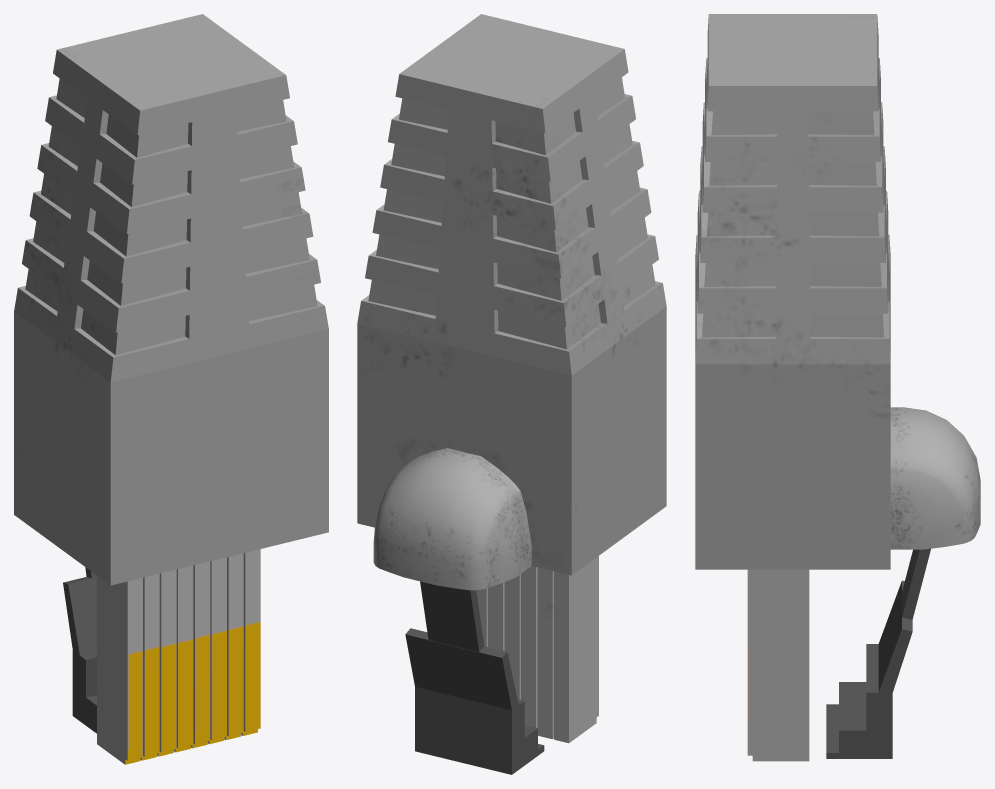
File: Kabel Ethernet.fbx
3 renders of one model, left to right at view 1: azimuth 30°, elevation 25°; view 2: azimuth 150°, elevation 25°; view 3: azimuth 270°, elevation 25°, orthographic. The views are drawn at different scales.
Parts seen in each view (by area): view 1: Cube, Cube.005, Cube.003; view 2: Cube, Cube.002, Cube.005, Cube.003, Plane; view 3: Cube, Cube.005, Cube.002, Cube.003, Plane.
Part boxes in pixels (x1,y1,x2,y2): Cube: [14, 14, 328, 585]; Cube.005: [97, 549, 260, 764]; Cube.003: [63, 577, 96, 733]; Cube: [357, 14, 666, 575]; Cube.002: [373, 448, 531, 590]; Cube.005: [476, 556, 598, 743]; Cube.003: [405, 628, 544, 774]; Plane: [420, 581, 484, 651]; Cube: [695, 14, 890, 569]; Cube.005: [747, 569, 809, 761]; Cube.002: [890, 407, 980, 549]; Cube.003: [826, 580, 912, 758]; Plane: [902, 548, 930, 619].
Size of the model in its own units: 4.01 by 11.9 by 4.49.
Materials: 2 (2 with a texture image).
